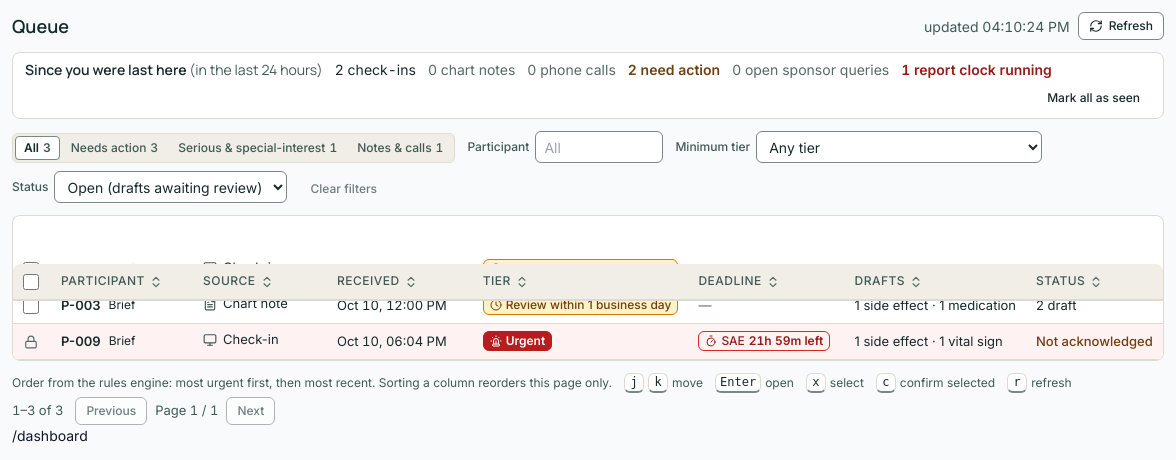
Test: worklist: tabs › filters the loaded page by view and keeps it in the URL
Expected: the number of rows is 4, top-left (13, 216), bottom-right (1163, 252); top-left (13, 252), bottom-right (1163, 288); top-left (13, 288), bottom-right (1163, 324); top-left (13, 324), bottom-right (1163, 360)
Click the radio button labelled "Notes & calls 1" at (400, 148), box top-left (348, 136), bottom-right (452, 160)
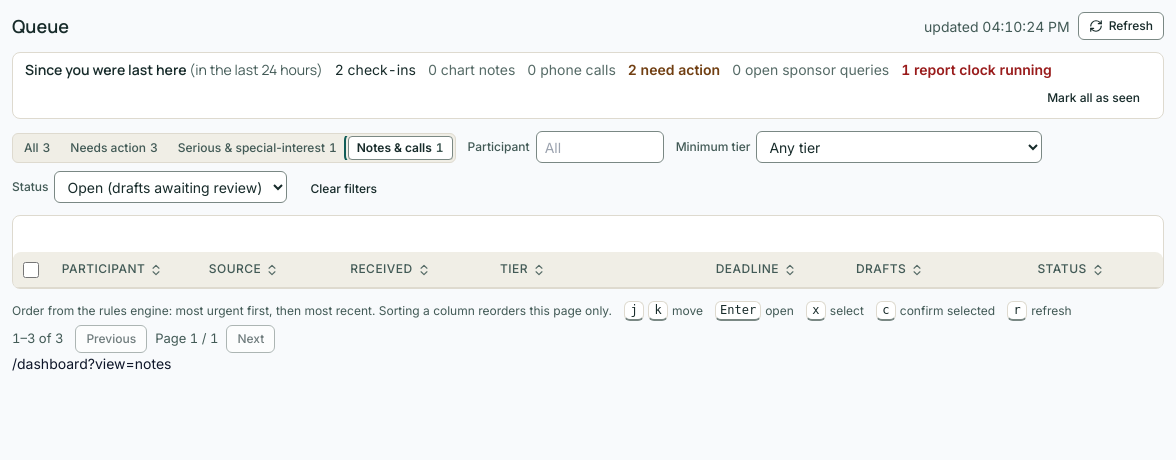
Expected: the number of rows is 2, top-left (13, 216), bottom-right (1163, 252); top-left (13, 252), bottom-right (1163, 288)
Expected: the link "P-003" is shown, top-left (62, 261), bottom-right (101, 278)
Click the radio button labelled "Serious & special-interest 1" at (257, 148), box top-left (169, 136), bottom-right (346, 160)
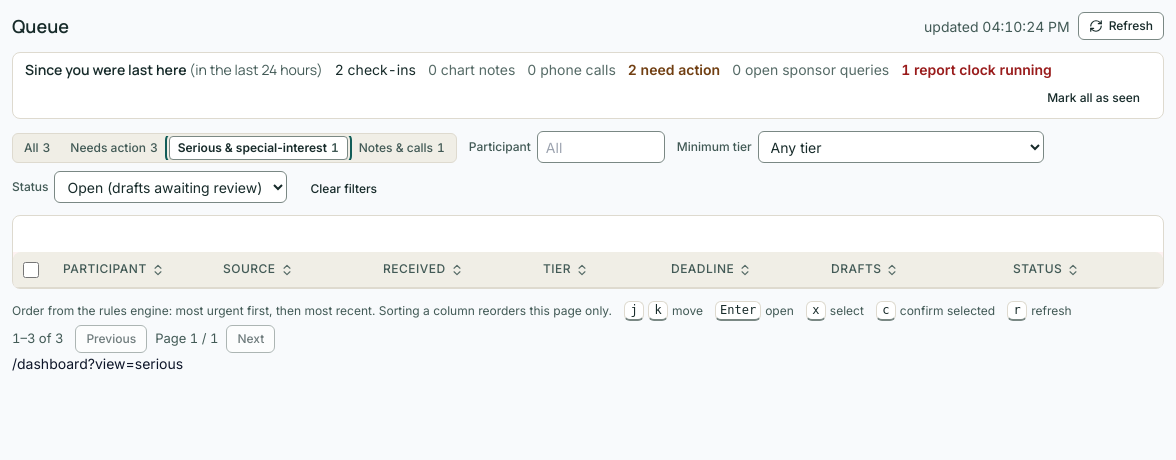
Expected: the number of rows is 2, top-left (13, 216), bottom-right (1163, 252); top-left (13, 252), bottom-right (1163, 288)
Now the link "P-009" is shown, box top-left (63, 261), bottom-right (102, 278)
Now the text with test id "where" shows "view=serious", box top-left (12, 355), bottom-right (183, 372)
